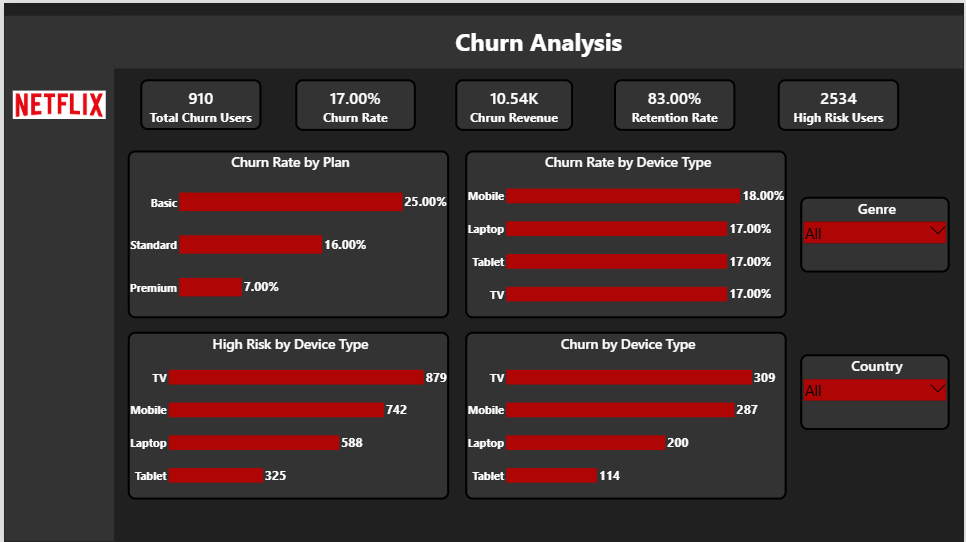

Layout of this report page (visuals, bound fields, positions):
{"tool":"powerbi","page":{"name":"Churn Analysis","canvas":[3840,2160],"ordinal":1},"visuals":[{"type":"shape","box":[0,51.9,441.5,2107.9],"z":0},{"type":"image","box":[34.6,337.6,372.2,134.2],"z":1000},{"type":"textbox","box":[441.5,51.9,3397.7,212.1],"z":2000},{"type":"card","title":"Revenue by Plan  ","fields":{"Values":["Netflix_Cleaned_Data.Churn Rate"]},"box":[1163.2,305.5,482.2,206.1],"z":4000},{"type":"card","title":"Revenue by Plan  ","fields":{"Values":["Netflix_Cleaned_Data.Lost Revenue"]},"box":[1807.4,305.5,471.2,206.1],"z":5000},{"type":"card","title":"Revenue by Plan  ","fields":{"Values":["Netflix_Cleaned_Data.Retention Rate"]},"box":[2440.5,305.5,485.9,206.1],"z":6000},{"type":"card","title":"Revenue by Plan  ","fields":{"Values":["Netflix_Cleaned_Data.High Risk Users"]},"box":[3095.7,305.5,485.9,206.1],"z":7000},{"type":"card","title":"Revenue by Plan  ","fields":{"Values":["Netflix_Cleaned_Data.Total Chrun Users"]},"box":[545.4,307.3,484.8,203.4],"z":8000},{"type":"barChart","title":"Churn Rate  by Plan  ","fields":{"Category":["Netflix_Cleaned_Data.subscription_plan"],"Y":["Netflix_Cleaned_Data.Churn Rate"]},"box":[493.4,588.6,1285.5,670.9],"z":9000},{"type":"barChart","title":"Churn Rate  by Device Type  ","fields":{"Category":["Netflix_Cleaned_Data.device_type"],"Y":["Netflix_Cleaned_Data.Churn Rate"]},"box":[1843.8,588.6,1285.5,670.9],"z":10000},{"type":"barChart","title":"High Risk  by Device Type  ","fields":{"Category":["Netflix_Cleaned_Data.device_type"],"Y":["Netflix_Cleaned_Data.High Risk Users"]},"box":[493.4,1315.8,1285.5,670.9],"z":11000},{"type":"barChart","title":"Churn  by Device Type  ","fields":{"Category":["Netflix_Cleaned_Data.device_type"],"Y":["Netflix_Cleaned_Data.Total Chrun Users"]},"box":[1843.8,1315.8,1285.5,670.9],"z":12000},{"type":"slicer","title":"Genre","fields":{"Values":["Netflix_Cleaned_Data.genre"]},"box":[3185.6,774.8,597.3,303],"z":13000},{"type":"slicer","title":"Country","fields":{"Values":["Netflix_Cleaned_Data.country"]},"box":[3185.6,1406.7,597.3,303],"z":14000}]}

Visuals, with their boxes in screenshot pixels (x1, y1, x2, y2), scaled from the page's 3840x2160 canvas onto the 966x542 screenshot:
shape: detection(0, 13, 111, 541)
image: detection(9, 85, 102, 118)
textbox: detection(111, 13, 965, 66)
"Revenue by Plan  " card: detection(293, 77, 414, 128)
"Revenue by Plan  " card: detection(455, 77, 573, 128)
"Revenue by Plan  " card: detection(614, 77, 736, 128)
"Revenue by Plan  " card: detection(779, 77, 901, 128)
"Revenue by Plan  " card: detection(137, 77, 259, 128)
"Churn Rate  by Plan  " barChart: detection(124, 148, 448, 316)
"Churn Rate  by Device Type  " barChart: detection(464, 148, 787, 316)
"High Risk  by Device Type  " barChart: detection(124, 330, 448, 499)
"Churn  by Device Type  " barChart: detection(464, 330, 787, 499)
"Genre" slicer: detection(801, 194, 952, 270)
"Country" slicer: detection(801, 353, 952, 429)
